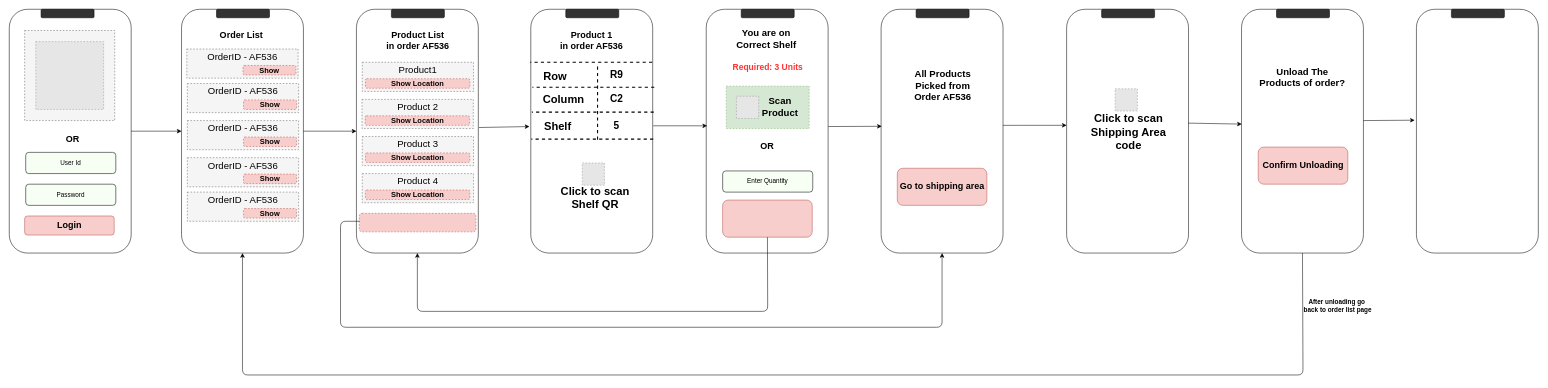
This 1548x388 diagram has some shape labels left out. Grey dashed boxes stand in for pictures. The centre of each missing label's shape, as x and y in pixels:
"End of picking for this order" goes at (417,222).
"No more orders to pick at the moment" goes at (1477,131).
"No more products on this shelf / OK" goes at (767,218).
